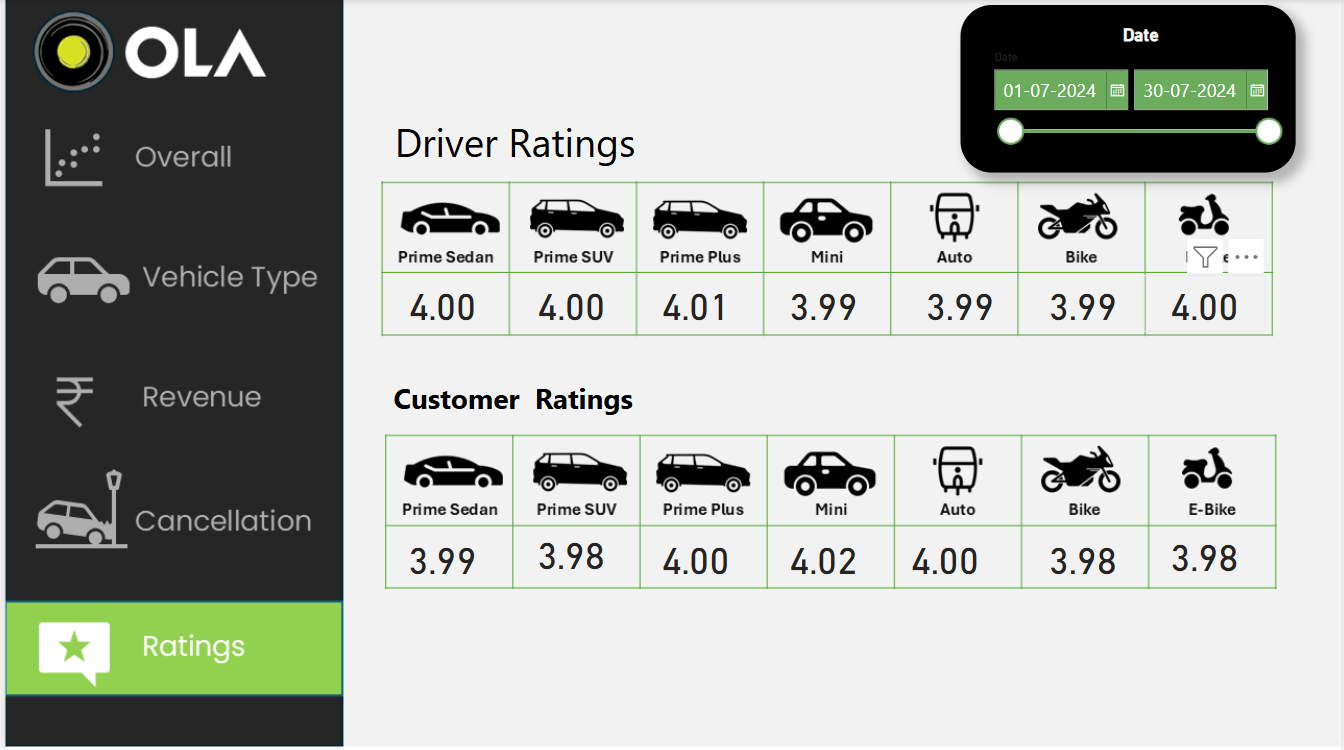

Layout of this report page (visuals, bound fields, positions):
{"tool":"powerbi","page":{"name":"Ratings","canvas":[1280,720],"ordinal":4},"visuals":[{"type":"actionButton","box":[0,106.4,322.1,90.6],"z":0},{"type":"card","fields":{"Values":["Avg(Bookings (2).Driver_Ratings)"]},"box":[362.4,264.6,115,54.6],"z":1000},{"type":"card","fields":{"Values":["Avg(Bookings (2).Driver_Ratings)"]},"box":[492.5,265,102.3,54.3],"z":2000},{"type":"card","fields":{"Values":["Avg(Bookings (2).Driver_Ratings)"]},"box":[613.6,265,96,54.3],"z":3000},{"type":"card","fields":{"Values":["Avg(Bookings (2).Driver_Ratings)"]},"box":[726.3,265,116.9,54.3],"z":4000},{"type":"card","fields":{"Values":["Avg(Bookings (2).Driver_Ratings)"]},"box":[857.7,265,116.9,54.3],"z":5000},{"type":"card","fields":{"Values":["Avg(Bookings (2).Driver_Ratings)"]},"box":[974.6,265,116.9,54.3],"z":6000},{"type":"card","fields":{"Values":["Avg(Bookings (2).Driver_Ratings)"]},"box":[1091.5,265,116.9,54.3],"z":7000},{"type":"card","fields":{"Values":["Avg(Bookings (2).Customer_Rating)"]},"box":[361,507.1,116.9,54.3],"z":8000},{"type":"card","fields":{"Values":["Avg(Bookings (2).Customer_Rating)"]},"box":[492.5,500.9,102.3,60.5],"z":9000},{"type":"card","fields":{"Values":["Avg(Bookings (2).Customer_Rating)"]},"box":[613.6,507.1,96,54.3],"z":10000},{"type":"textbox","box":[363.1,106.4,250.4,60.5],"z":10001},{"type":"textbox","box":[361,359,252.5,58.4],"z":10002},{"type":"card","fields":{"Values":["Avg(Bookings (2).Customer_Rating)"]},"box":[726.3,507.1,116.9,54.3],"z":10003},{"type":"card","fields":{"Values":["Avg(Bookings (2).Customer_Rating)"]},"box":[843.1,507.1,116.9,54.3],"z":10004},{"type":"card","fields":{"Values":["Avg(Bookings (2).Customer_Rating)"]},"box":[974.6,507.1,116.9,54.3],"z":10005},{"type":"card","fields":{"Values":["Avg(Bookings (2).Customer_Rating)"]},"box":[1091.5,505,116.9,54.3],"z":10006},{"type":"slicer","title":"Date","fields":{"Values":["Bookings (2).Date"]},"box":[916.2,6.3,321.4,160.7],"z":10007}]}

Visuals, with their boxes in screenshot pixels (x1, y1, x2, y2), scaled from the page's 1280x720 canvas onto the 1344x750 screenshot:
actionButton: x1=0 y1=111 x2=338 y2=205
card - Avg(Bookings (2).Driver_Ratings): x1=381 y1=276 x2=501 y2=333
card - Avg(Bookings (2).Driver_Ratings): x1=517 y1=276 x2=625 y2=333
card - Avg(Bookings (2).Driver_Ratings): x1=644 y1=276 x2=745 y2=333
card - Avg(Bookings (2).Driver_Ratings): x1=763 y1=276 x2=885 y2=333
card - Avg(Bookings (2).Driver_Ratings): x1=901 y1=276 x2=1023 y2=333
card - Avg(Bookings (2).Driver_Ratings): x1=1023 y1=276 x2=1146 y2=333
card - Avg(Bookings (2).Driver_Ratings): x1=1146 y1=276 x2=1269 y2=333
card - Avg(Bookings (2).Customer_Rating): x1=379 y1=528 x2=502 y2=585
card - Avg(Bookings (2).Customer_Rating): x1=517 y1=522 x2=625 y2=585
card - Avg(Bookings (2).Customer_Rating): x1=644 y1=528 x2=745 y2=585
textbox: x1=381 y1=111 x2=644 y2=174
textbox: x1=379 y1=374 x2=644 y2=435
card - Avg(Bookings (2).Customer_Rating): x1=763 y1=528 x2=885 y2=585
card - Avg(Bookings (2).Customer_Rating): x1=885 y1=528 x2=1008 y2=585
card - Avg(Bookings (2).Customer_Rating): x1=1023 y1=528 x2=1146 y2=585
card - Avg(Bookings (2).Customer_Rating): x1=1146 y1=526 x2=1269 y2=583
"Date" slicer: x1=962 y1=7 x2=1299 y2=174
